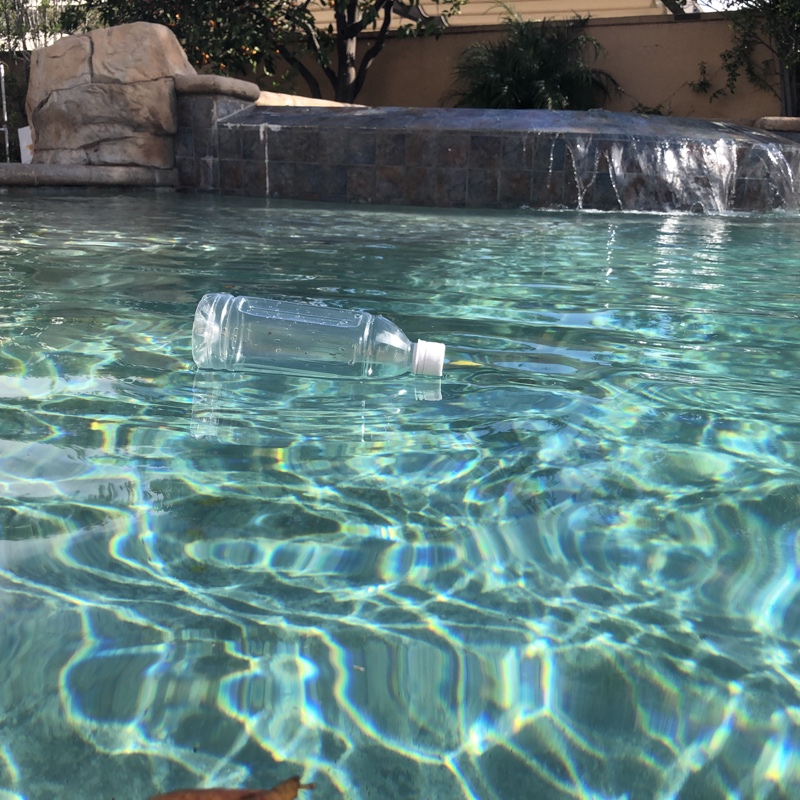Plastic Bottle: (189, 283, 447, 386)
